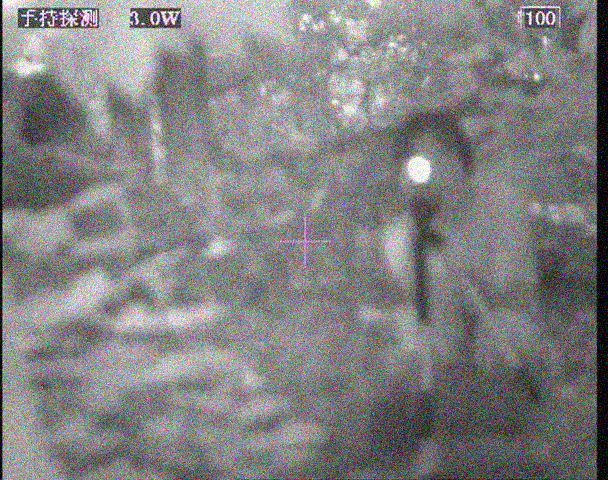my: (402, 154, 434, 183)
